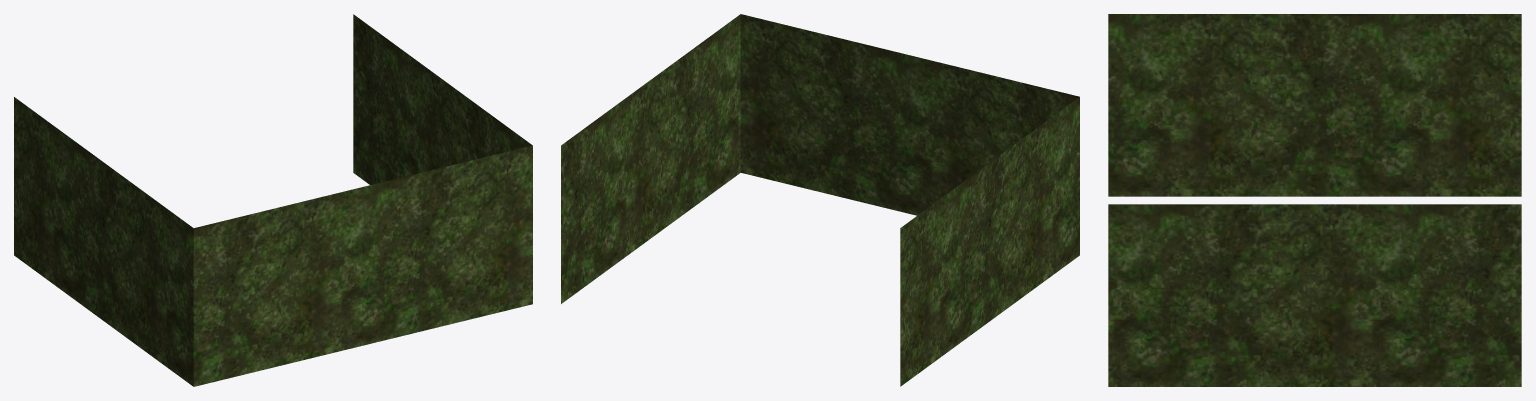
The model's file is OVERHILL_A_01_LINE217.fbx.
The picture shows the model from 3 angles, left to right: view 1: azimuth 30°, elevation 25°; view 2: azimuth 150°, elevation 25°; view 3: azimuth 270°, elevation 25°; orthographic projection. The views are drawn at different scales.
Parts seen in each view (by area): view 1: OVERHILL_A_01_LINE217; view 2: OVERHILL_A_01_LINE217; view 3: OVERHILL_A_01_LINE217.
Boxes of the visible parts, x1=… form: OVERHILL_A_01_LINE217: x1=14, y1=14, x2=532, y2=386; OVERHILL_A_01_LINE217: x1=561, y1=14, x2=1079, y2=386; OVERHILL_A_01_LINE217: x1=1108, y1=14, x2=1521, y2=386.
Bounding box in the file's own units: 53148 × 23776 × 48762.
1 material, 1 textured.
